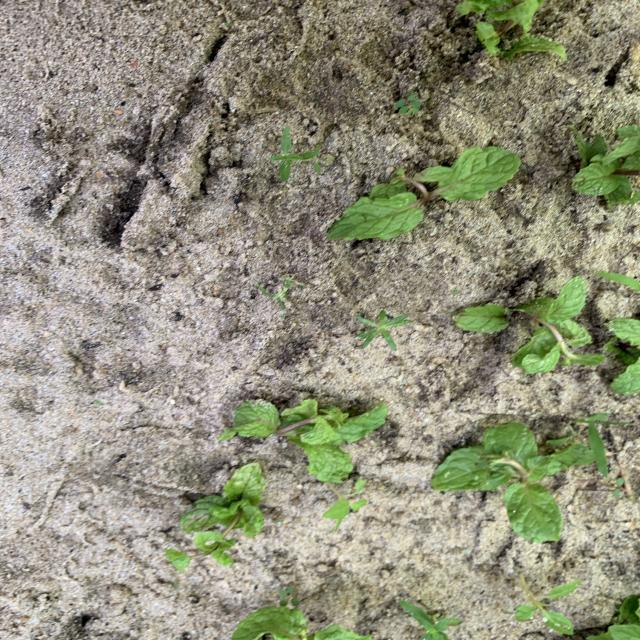crop: (432, 423, 585, 541), (330, 147, 519, 239), (455, 278, 604, 373), (220, 399, 386, 481), (181, 463, 264, 564), (456, 1, 566, 58), (574, 125, 639, 206), (232, 607, 371, 639), (605, 319, 639, 394), (585, 595, 639, 639)
weed: (546, 413, 625, 476), (516, 575, 578, 633), (270, 126, 321, 179), (322, 479, 367, 530), (400, 602, 460, 639), (255, 274, 306, 316), (357, 310, 410, 349), (603, 475, 635, 498), (597, 273, 639, 289), (396, 92, 421, 114), (166, 550, 190, 571), (279, 587, 299, 607)
